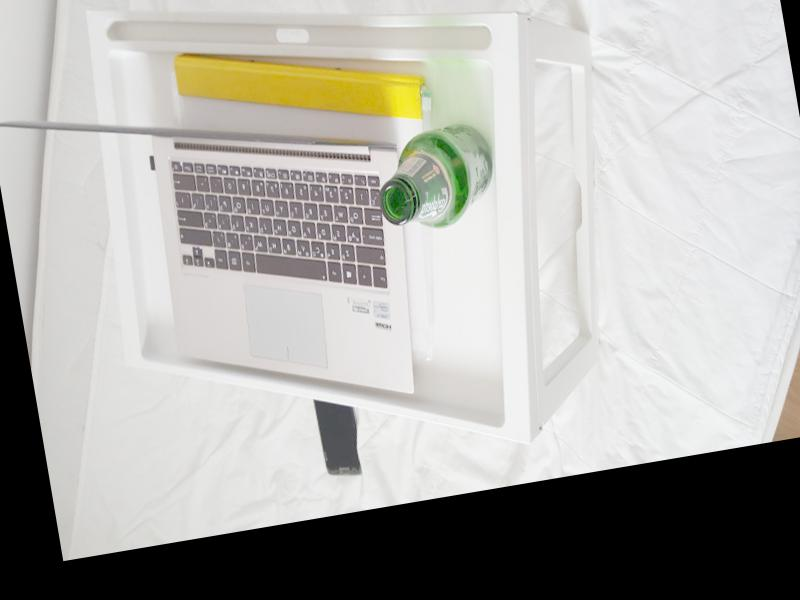Beer: (370, 119, 503, 237)
